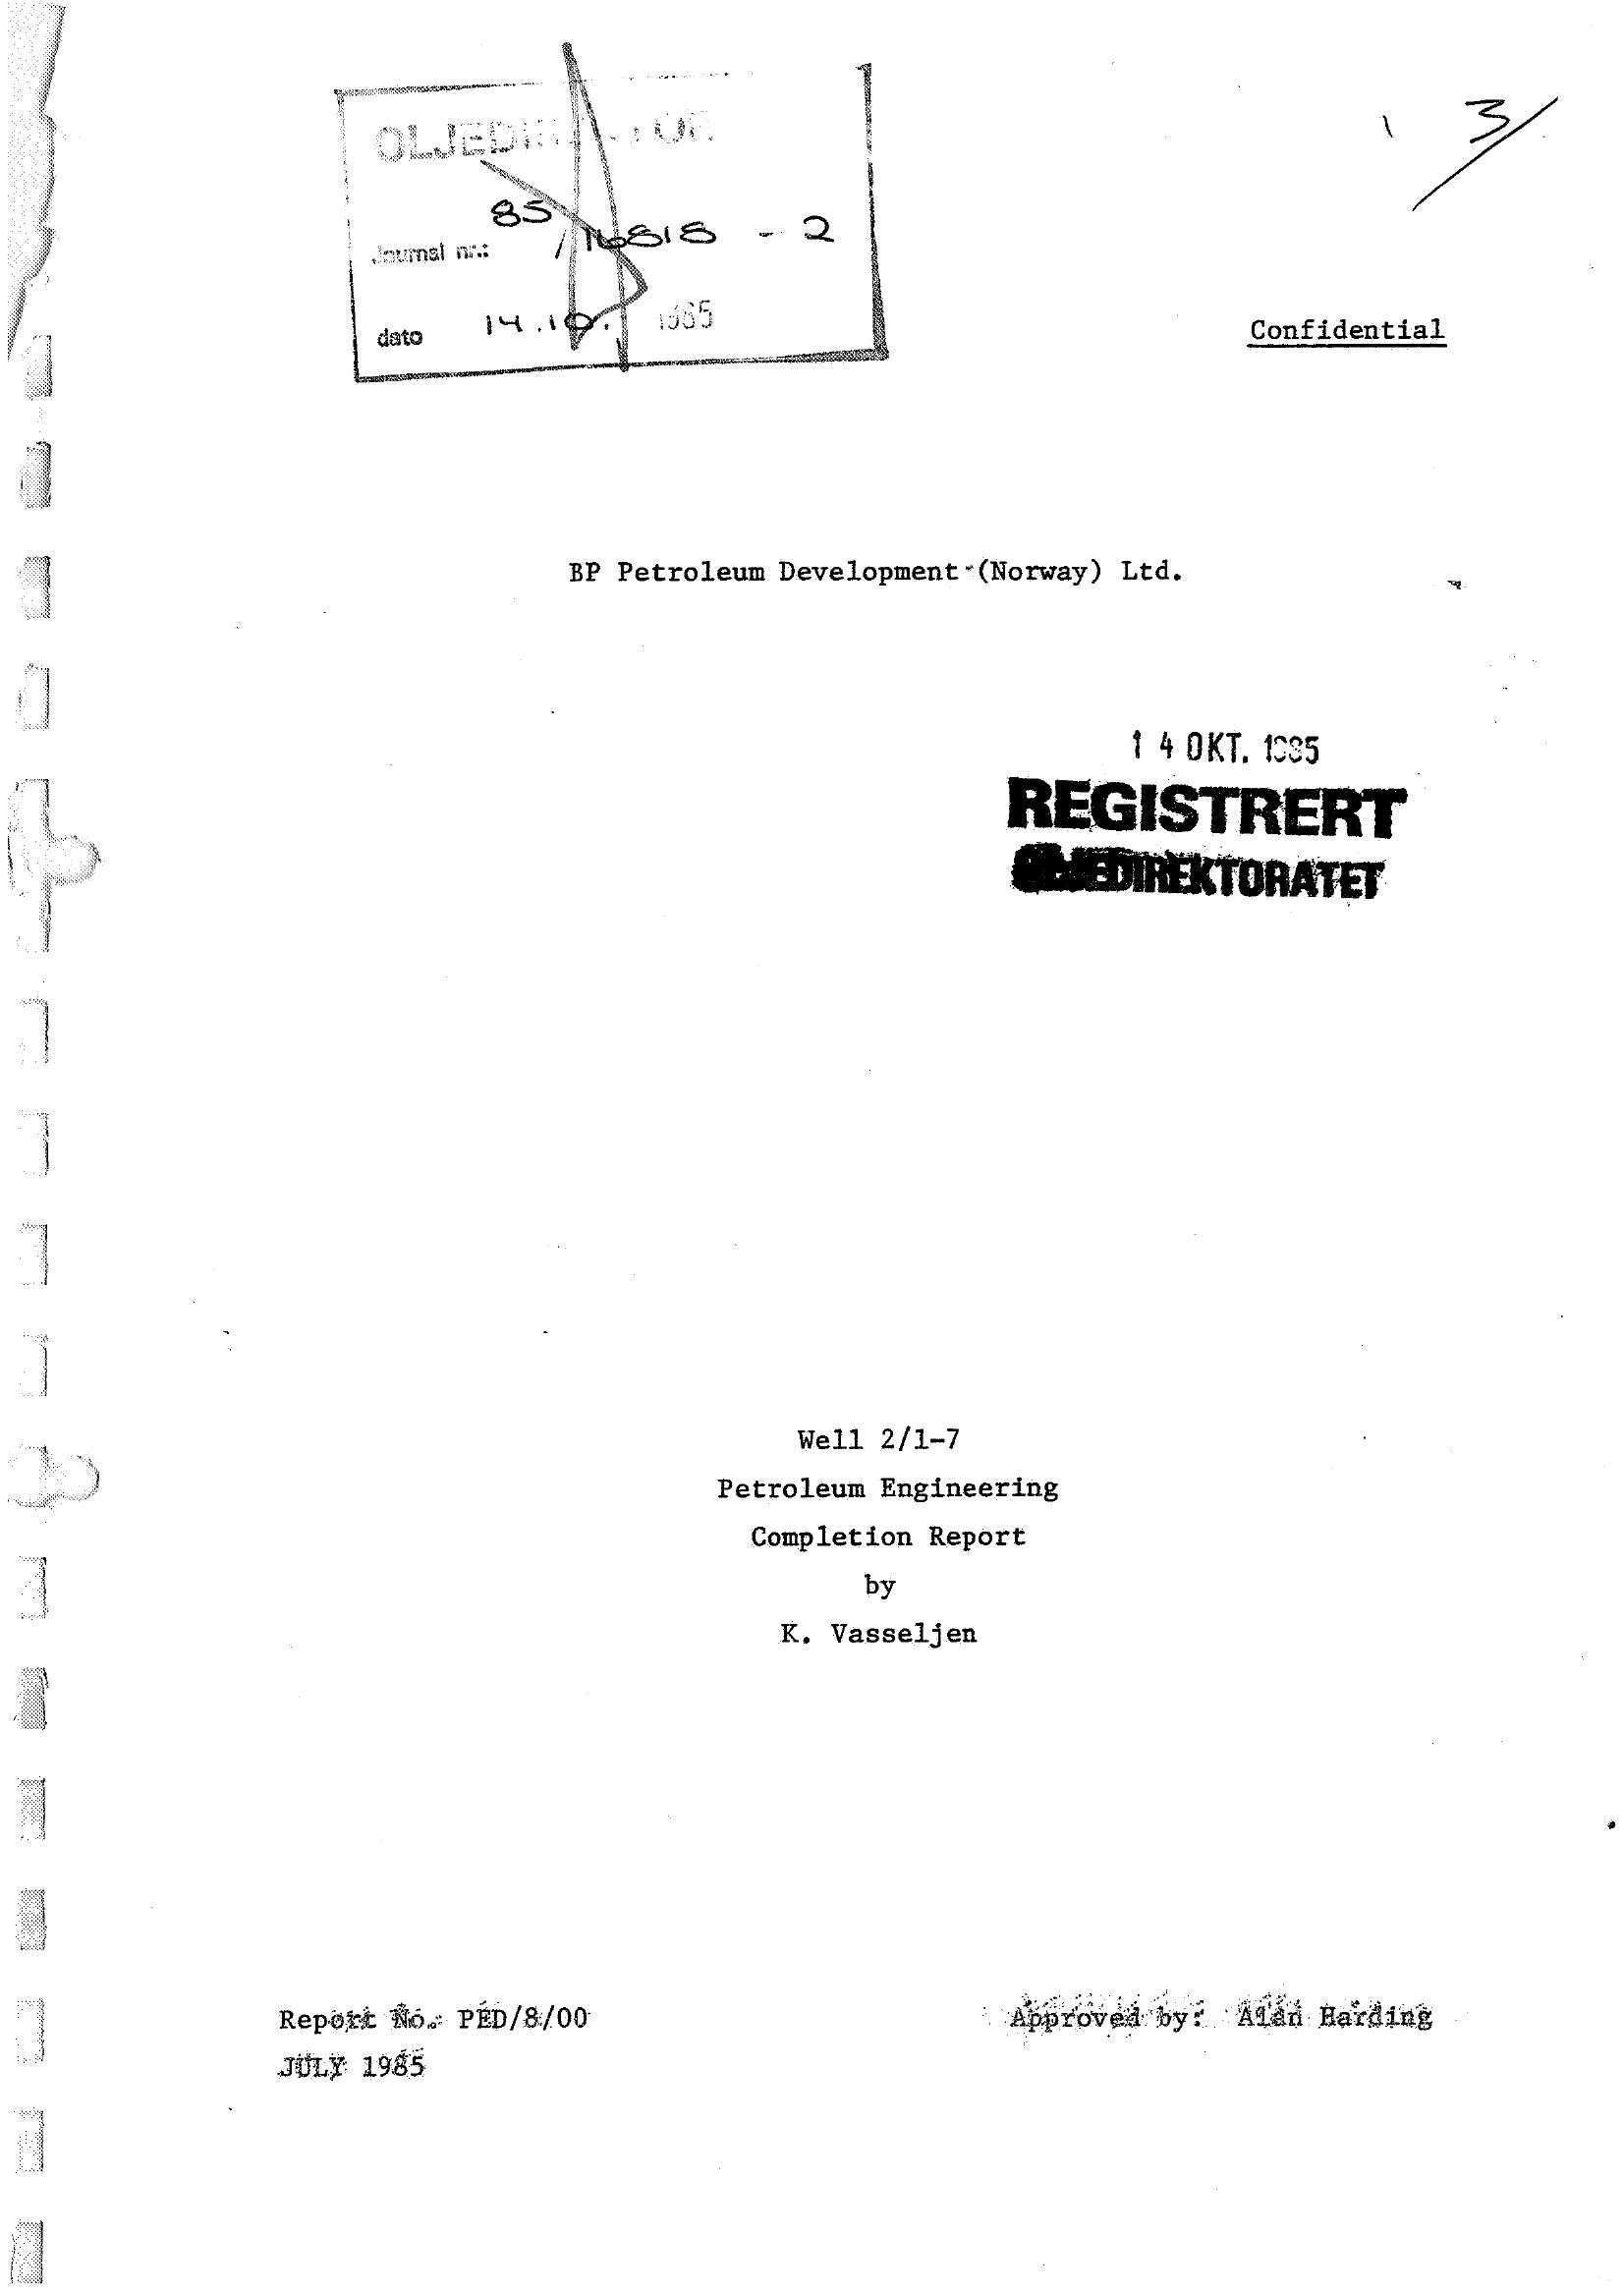text: (678, 1385, 1090, 1699), (554, 527, 1197, 604)
undefined: (262, 12, 1606, 471), (932, 710, 1489, 958), (244, 1987, 601, 2094), (986, 1975, 1450, 2056)
